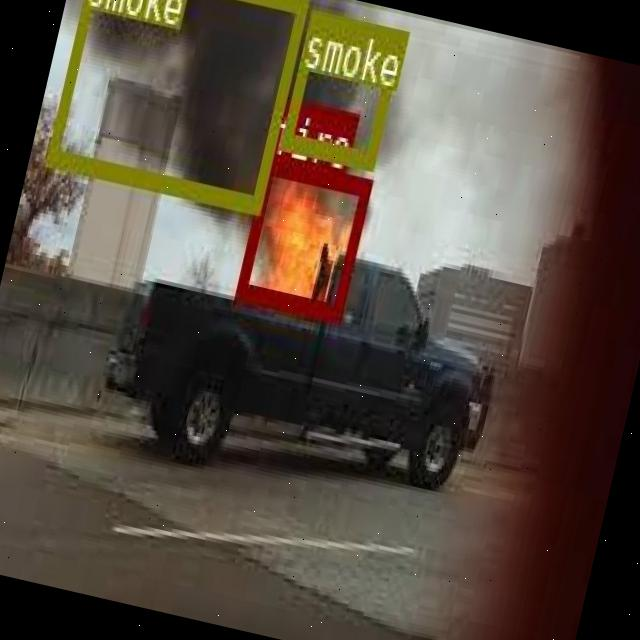fire: (235, 154, 372, 318)
smoke: (44, 0, 307, 210), (279, 9, 402, 166)
